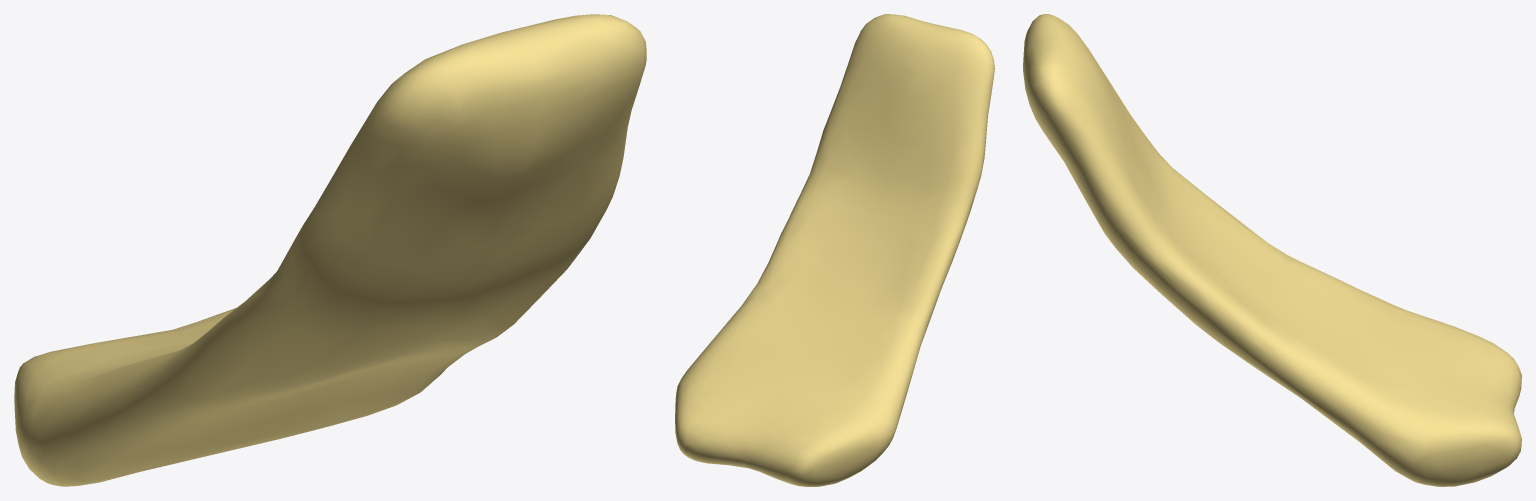
The model's file is fma74508_mm3223.glb.
3 renders of one model, left to right at view 1: azimuth 30°, elevation 25°; view 2: azimuth 150°, elevation 25°; view 3: azimuth 270°, elevation 25°, orthographic. The views are drawn at different scales.
Parts seen in each view (by area): view 1: FMA74508_MM3223; view 2: FMA74508_MM3223; view 3: FMA74508_MM3223.
Part boxes in pixels (bbox=[...]): FMA74508_MM3223: bbox=[14, 14, 646, 486]; FMA74508_MM3223: bbox=[675, 14, 994, 486]; FMA74508_MM3223: bbox=[1023, 14, 1521, 486].
Bounding box in the file's own units: 0.011 × 0.0164 × 0.0181.
